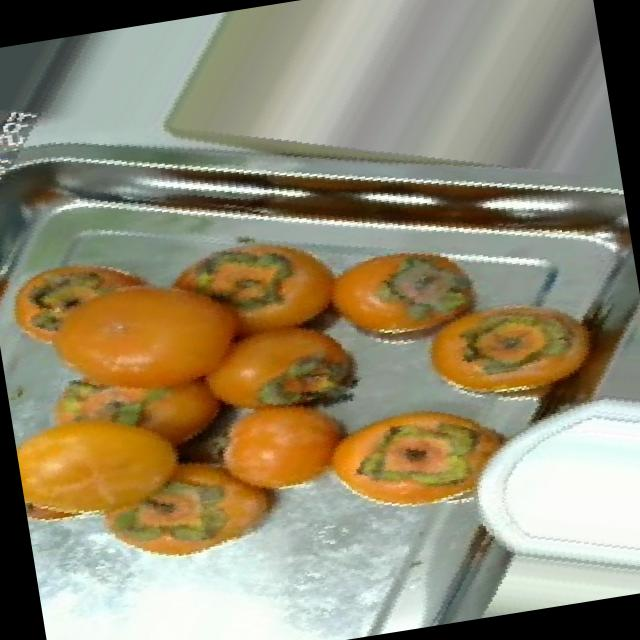Fruit: (302, 373, 536, 534), (0, 216, 207, 392), (396, 266, 618, 426)
